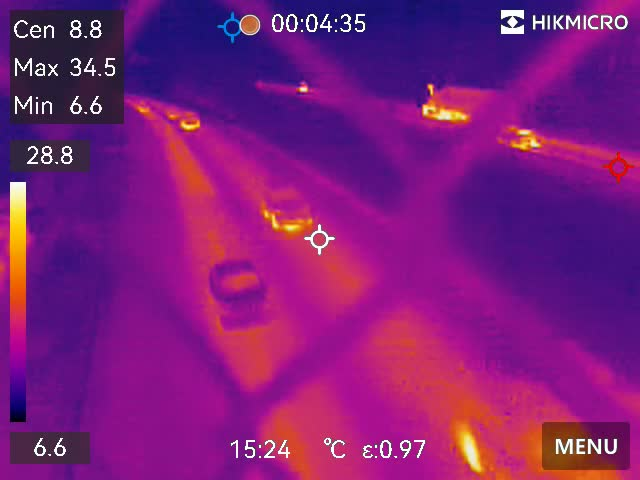heavyTruck: (421, 75, 510, 126)
